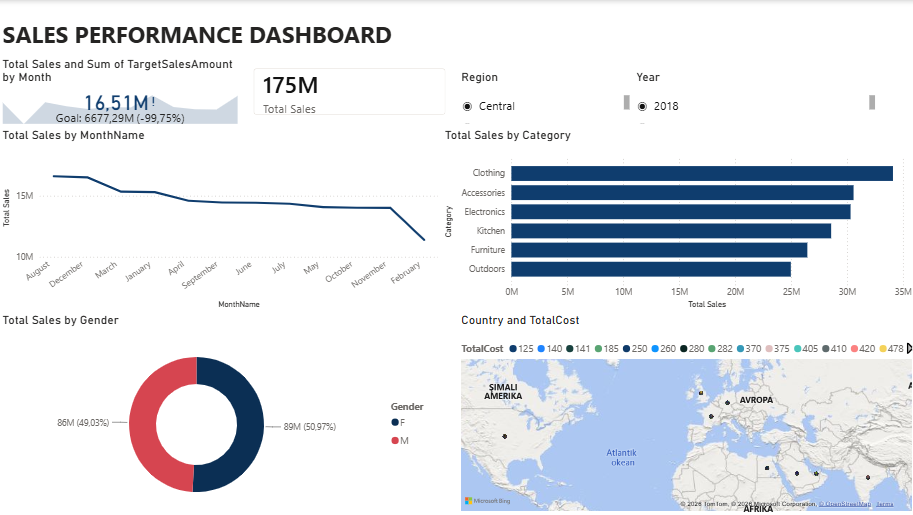

Layout of this report page (visuals, bound fields, positions):
{"tool":"powerbi","page":{"name":"Page 1","canvas":[1280,720],"ordinal":0},"visuals":[{"type":"lineChart","fields":{"Category":["DimDate2.MonthName"],"Y":["FactSales.Total Sales"]},"box":[0,178.1,618.1,258.4],"z":0},{"type":"clusteredBarChart","fields":{"Y":["FactSales.Total Sales"],"Category":["DimProduct.Category"]},"box":[618.1,178.1,661.7,258.4],"z":1000},{"type":"donutChart","fields":{"Y":["FactSales.Total Sales"],"Category":["DimCustomer.Gender"]},"box":[0,436.5,618.1,282.8],"z":2000},{"type":"listSlicer","fields":{"Values":["DimDate2.Year"]},"box":[885.2,97.8,343.3,79.6],"z":3000},{"type":"map","fields":{"Category":["DimGeography.Country"],"Series":["FactSales.TotalCost"]},"box":[640.8,436.5,639,282.8],"z":4000},{"type":"listSlicer","fields":{"Values":["DimGeography.Region"]},"box":[640.8,97.8,245.1,79.6],"z":5000},{"type":"cardVisual","fields":{"Data":["FactSales.Total Sales"]},"box":[338.7,78.6,302,99.5],"z":6000},{"type":"kpi","fields":{"Indicator":["FactSales.Total Sales"],"Goal":["Sum(FactSalesTarget.TargetSalesAmount)"],"TrendLine":["DimDate2.Month"]},"box":[0,78.6,338.7,99.5],"z":7000},{"type":"textbox","box":[0,17.5,598.8,61.1],"z":7001}]}

Visuals, with their boxes in screenshot pixels (x1, y1, x2, y2), scaled from the page's 1280x720 canvas onto the 913x515 screenshot:
lineChart - DimDate2.MonthName x FactSales.Total Sales: pyautogui.locateOnScreen(0, 127, 441, 312)
clusteredBarChart - FactSales.Total Sales x DimProduct.Category: pyautogui.locateOnScreen(441, 127, 912, 312)
donutChart - FactSales.Total Sales x DimCustomer.Gender: pyautogui.locateOnScreen(0, 312, 441, 514)
listSlicer - DimDate2.Year: pyautogui.locateOnScreen(631, 70, 876, 127)
map - DimGeography.Country x FactSales.TotalCost: pyautogui.locateOnScreen(457, 312, 912, 514)
listSlicer - DimGeography.Region: pyautogui.locateOnScreen(457, 70, 632, 127)
cardVisual - FactSales.Total Sales: pyautogui.locateOnScreen(242, 56, 457, 127)
kpi - FactSales.Total Sales x Sum(FactSalesTarget.TargetSalesAmount): pyautogui.locateOnScreen(0, 56, 242, 127)
textbox: pyautogui.locateOnScreen(0, 13, 427, 56)
